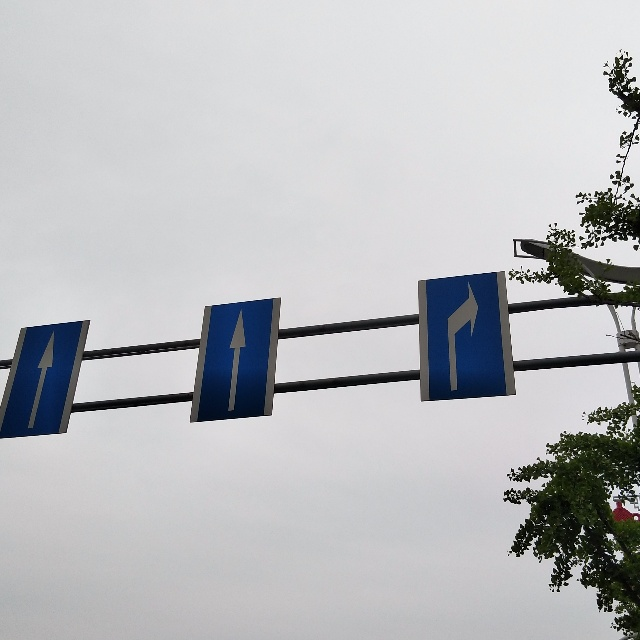right: (437, 275, 491, 396)
straight: (209, 299, 257, 420), (20, 327, 60, 433)
